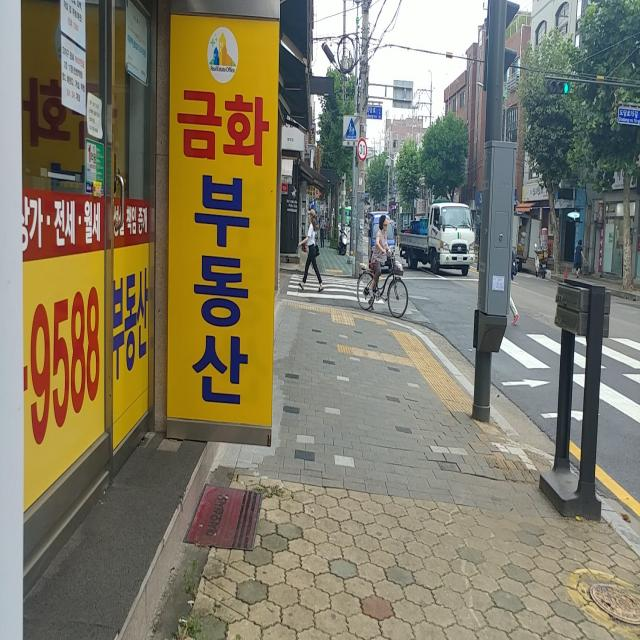횡단보도: (286, 273, 385, 305)
